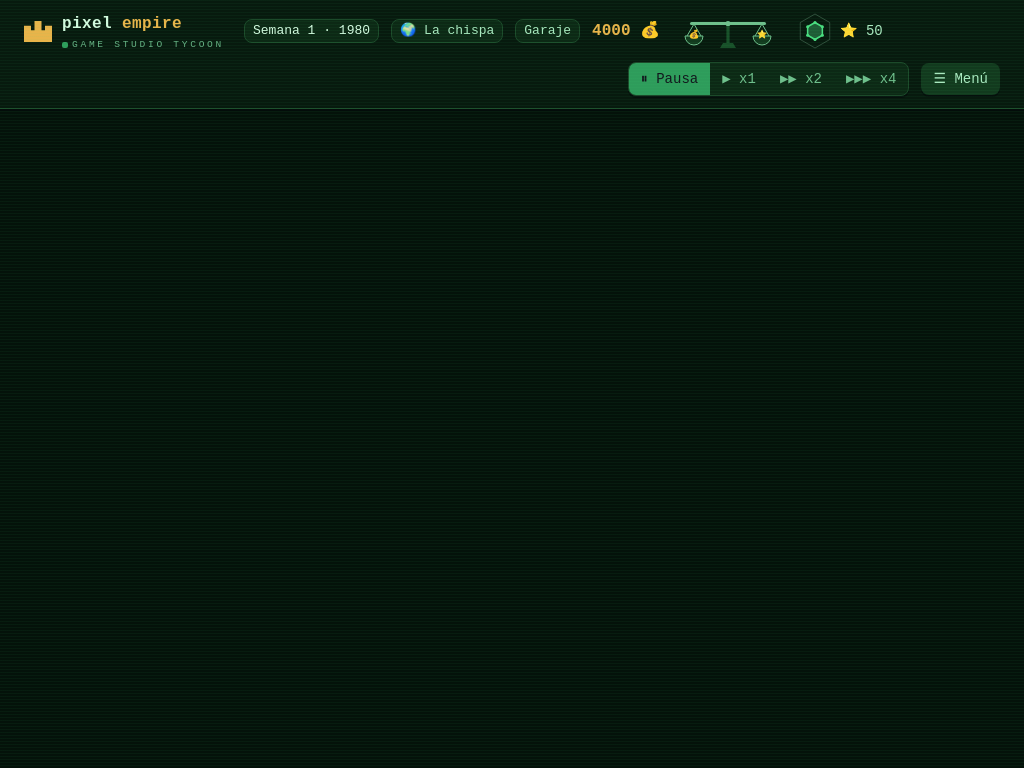
App — la UI solo muestra estado y despacha acciones (docs/08 §6) › Fase 8.5 — pantalla principal limpia y creación en modal (docs/17 U2–U3) › el historial sale de la pantalla y se abre desde el menú
This screenshot has width=1024, height=768.
Expected: the text "Historial" is not shown
Step 1. Click the button "☰ Menú" → [961, 79], box x1=921 y1=63 x2=1000 y2=95
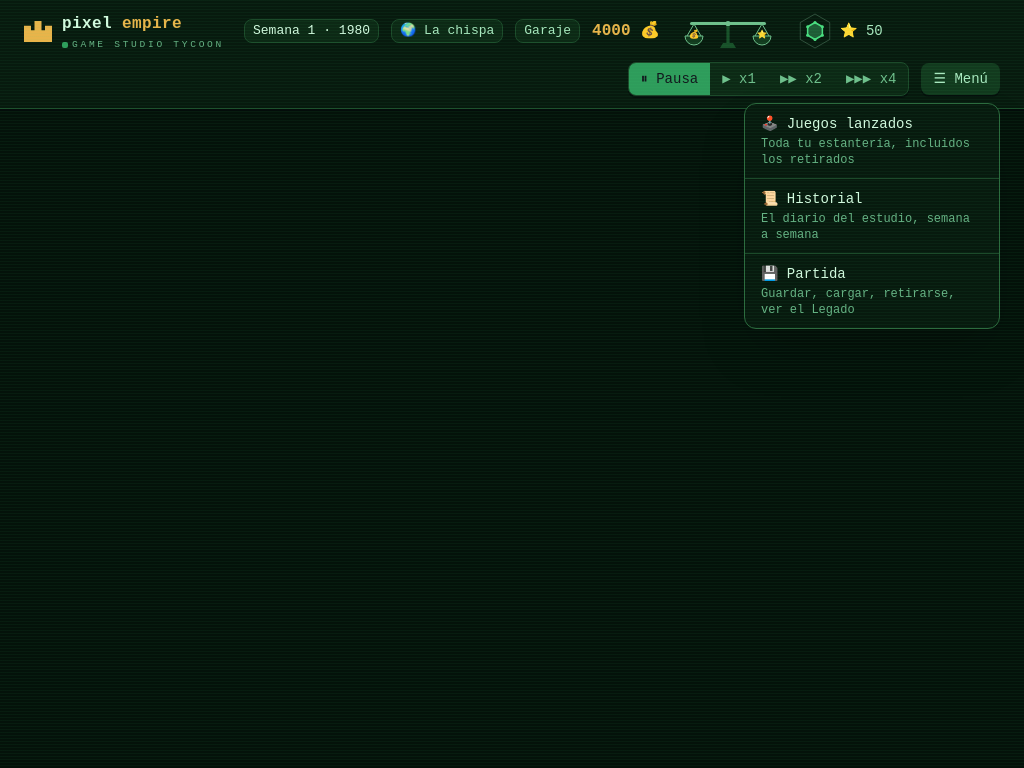
Step 2. Click the menu item "📜 Historial El diario del estudio, semana a semana" → [872, 216], box x1=745 y1=179 x2=999 y2=254
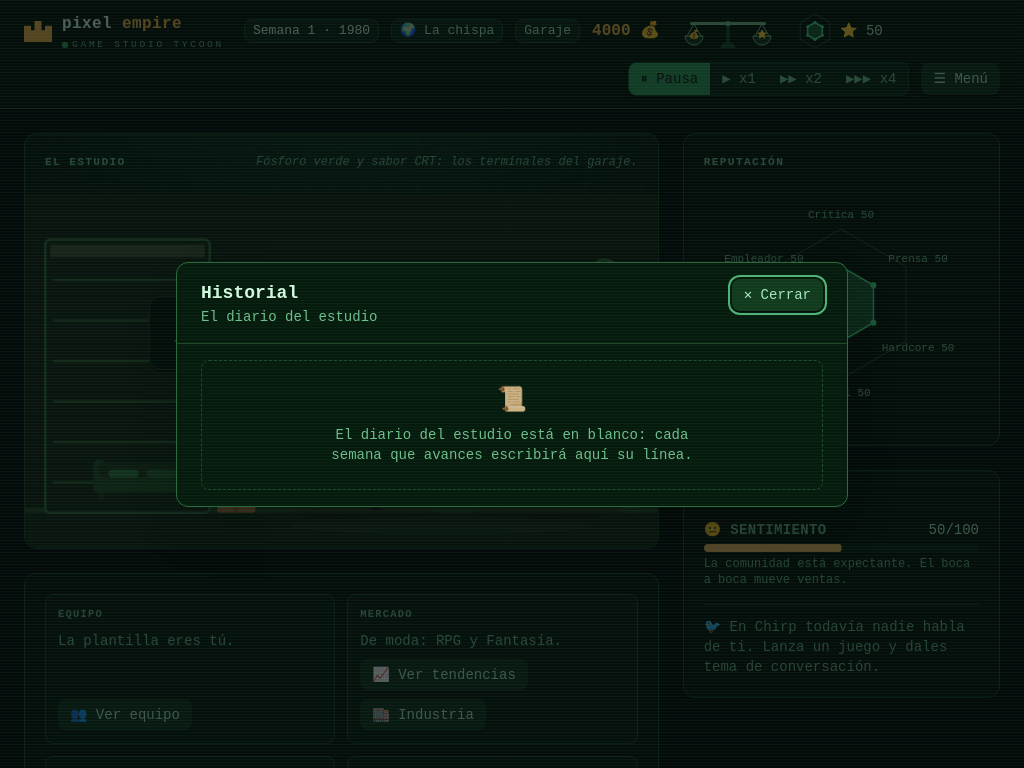
Expected: the dialog "Historial" is shown
